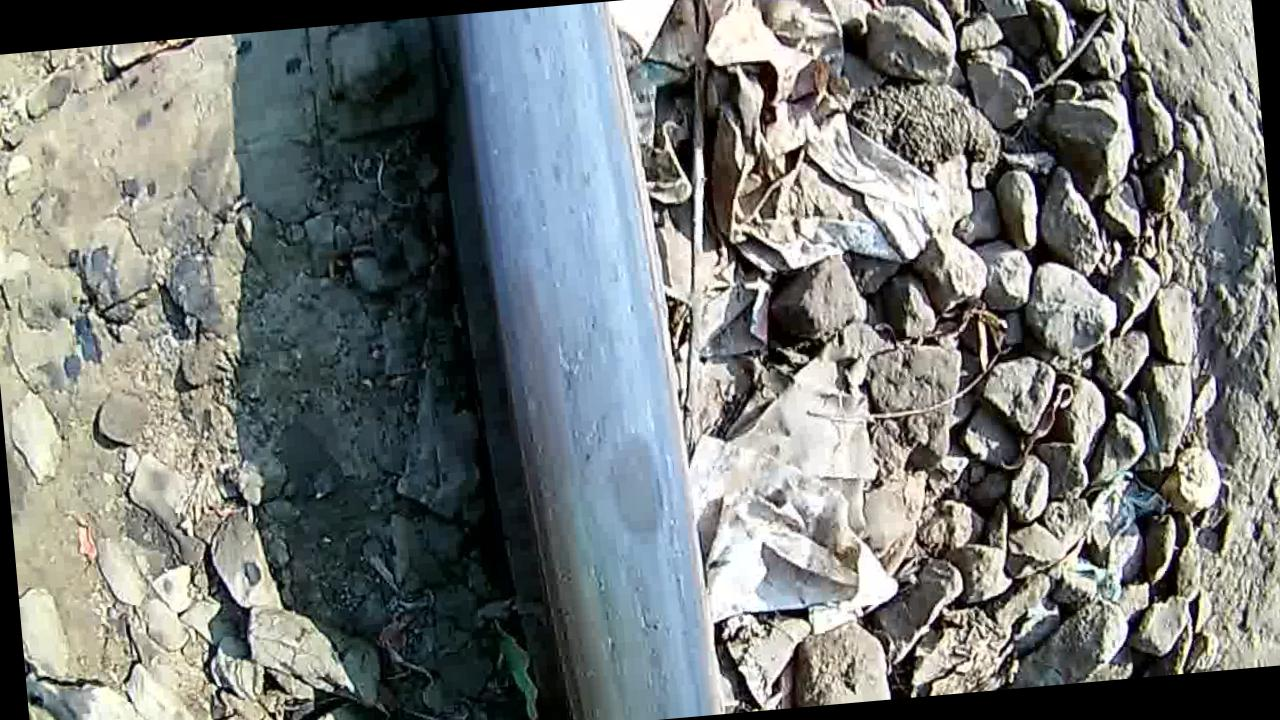bolt_missing: (580, 413, 699, 562)
